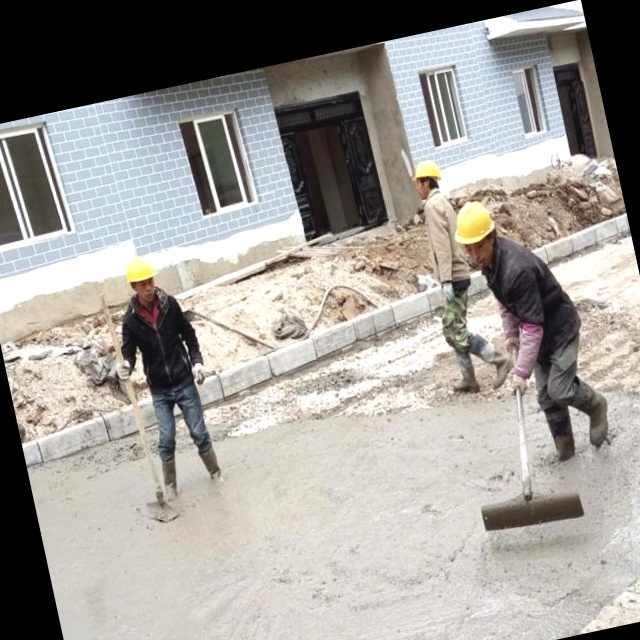Con_Casco: (449, 199, 502, 274), (119, 252, 161, 305), (408, 155, 449, 203)
